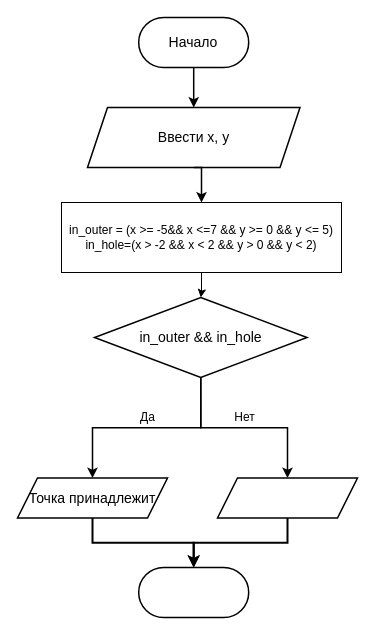
Some shapes in this 376 by 636 pixel diagram are drawn without their labels. Here are the shapes that lost their labels. From the top down, the centre of each, then its label:
(287,497): Точка не принадлежит
(193,592): Конец
